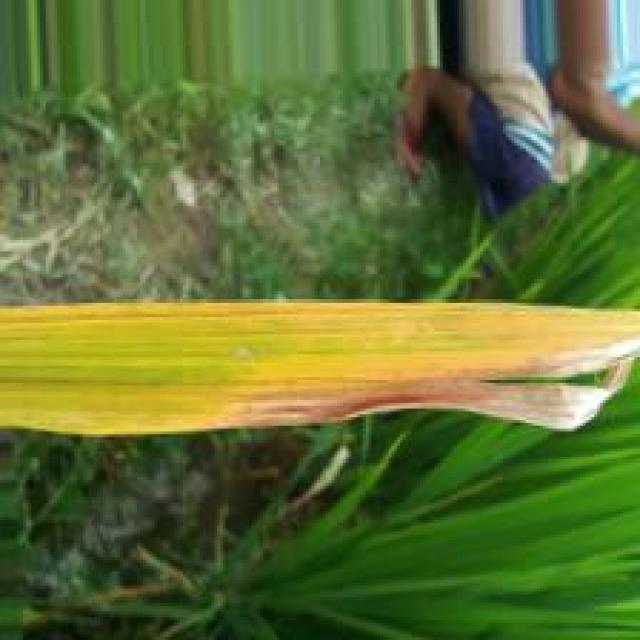Rice False Smut: (221, 335, 638, 430)
